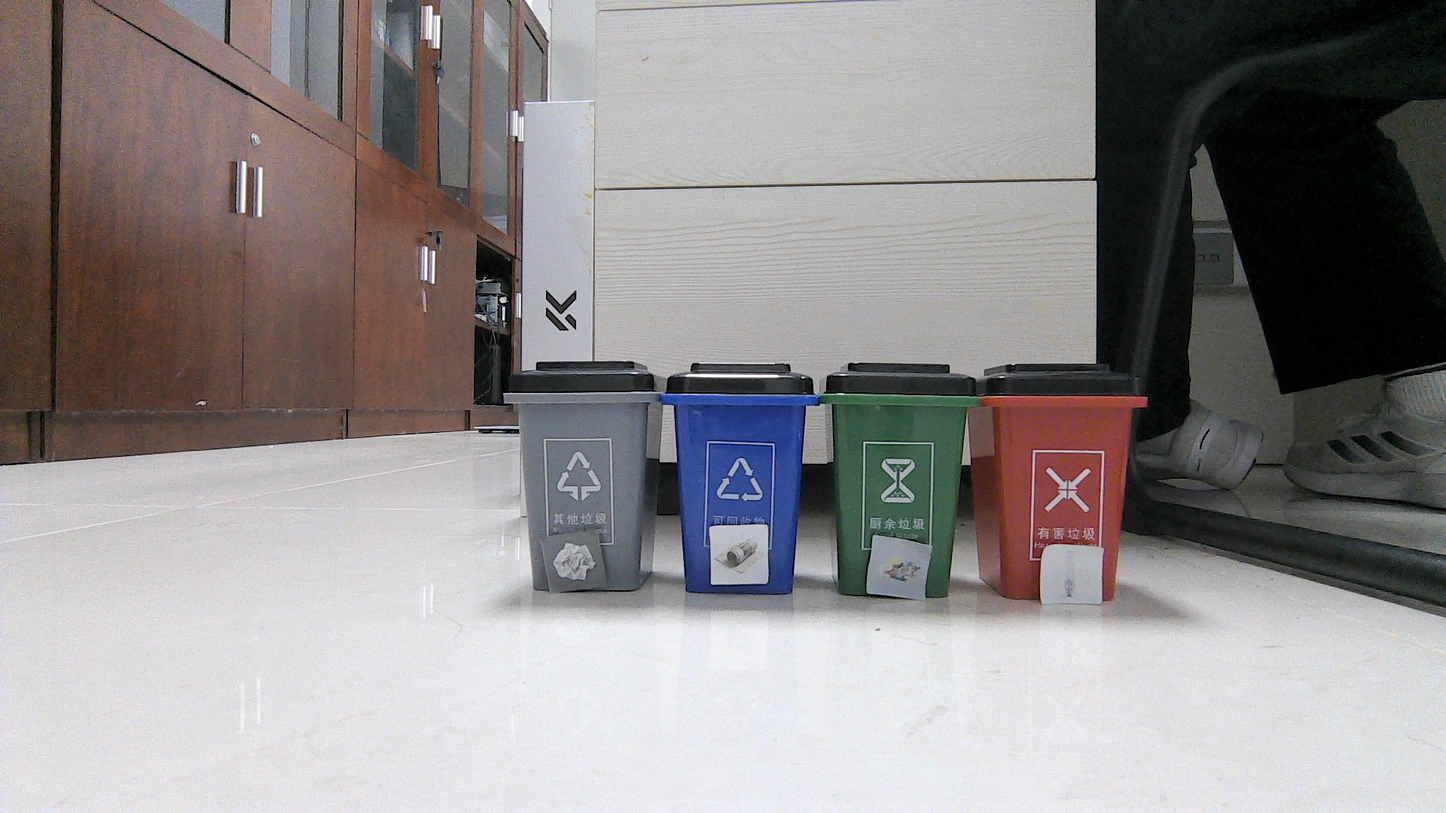hazardous_trash: (873, 541, 925, 595), (1046, 547, 1098, 600)
other_trash: (548, 538, 597, 586)
recyclable_trash: (714, 528, 766, 581)
